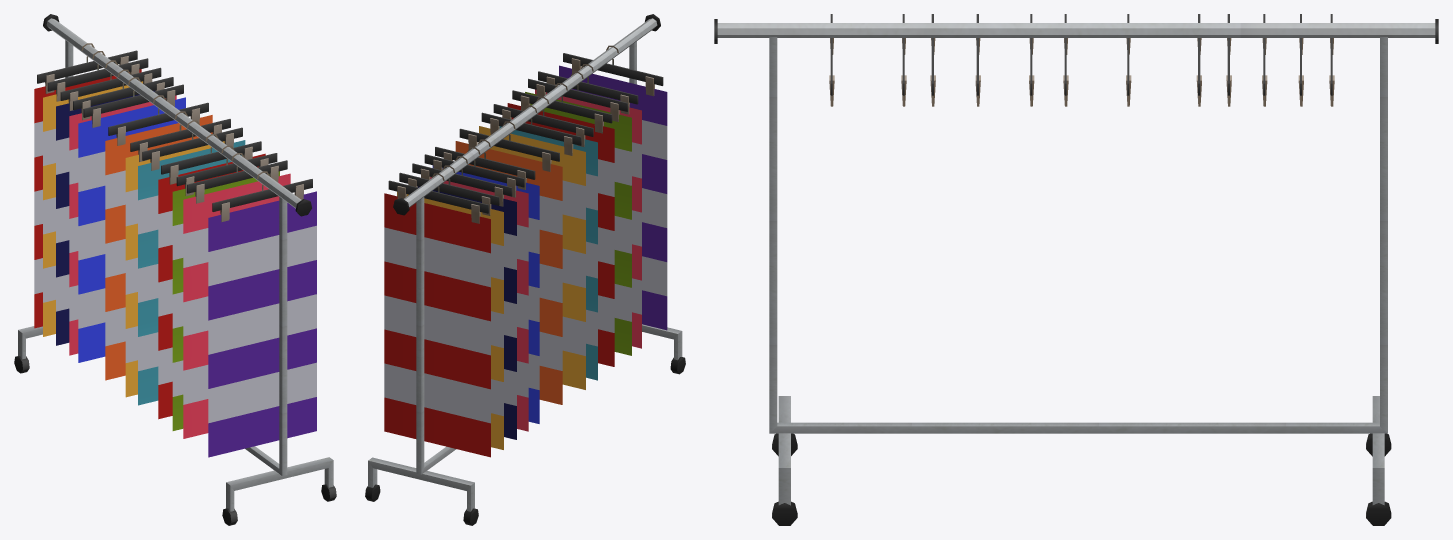
The model's file is Cloth_Rack_06.FBX.
The picture shows the model from 3 angles, left to right: view 1: azimuth 30°, elevation 25°; view 2: azimuth 150°, elevation 25°; view 3: azimuth 270°, elevation 25°; orthographic projection. The views are drawn at different scales.
Parts seen in each view (by area): view 1: Cloth_Rack_06; view 2: Cloth_Rack_06; view 3: Cloth_Rack_06.
Part boxes in pixels (x1,y1,x2,y2): Cloth_Rack_06: (14,14,336,525); Cloth_Rack_06: (365,14,685,525); Cloth_Rack_06: (714,14,1438,525).
Size of the model in its own units: 0.4884 by 1.96 by 1.4.
